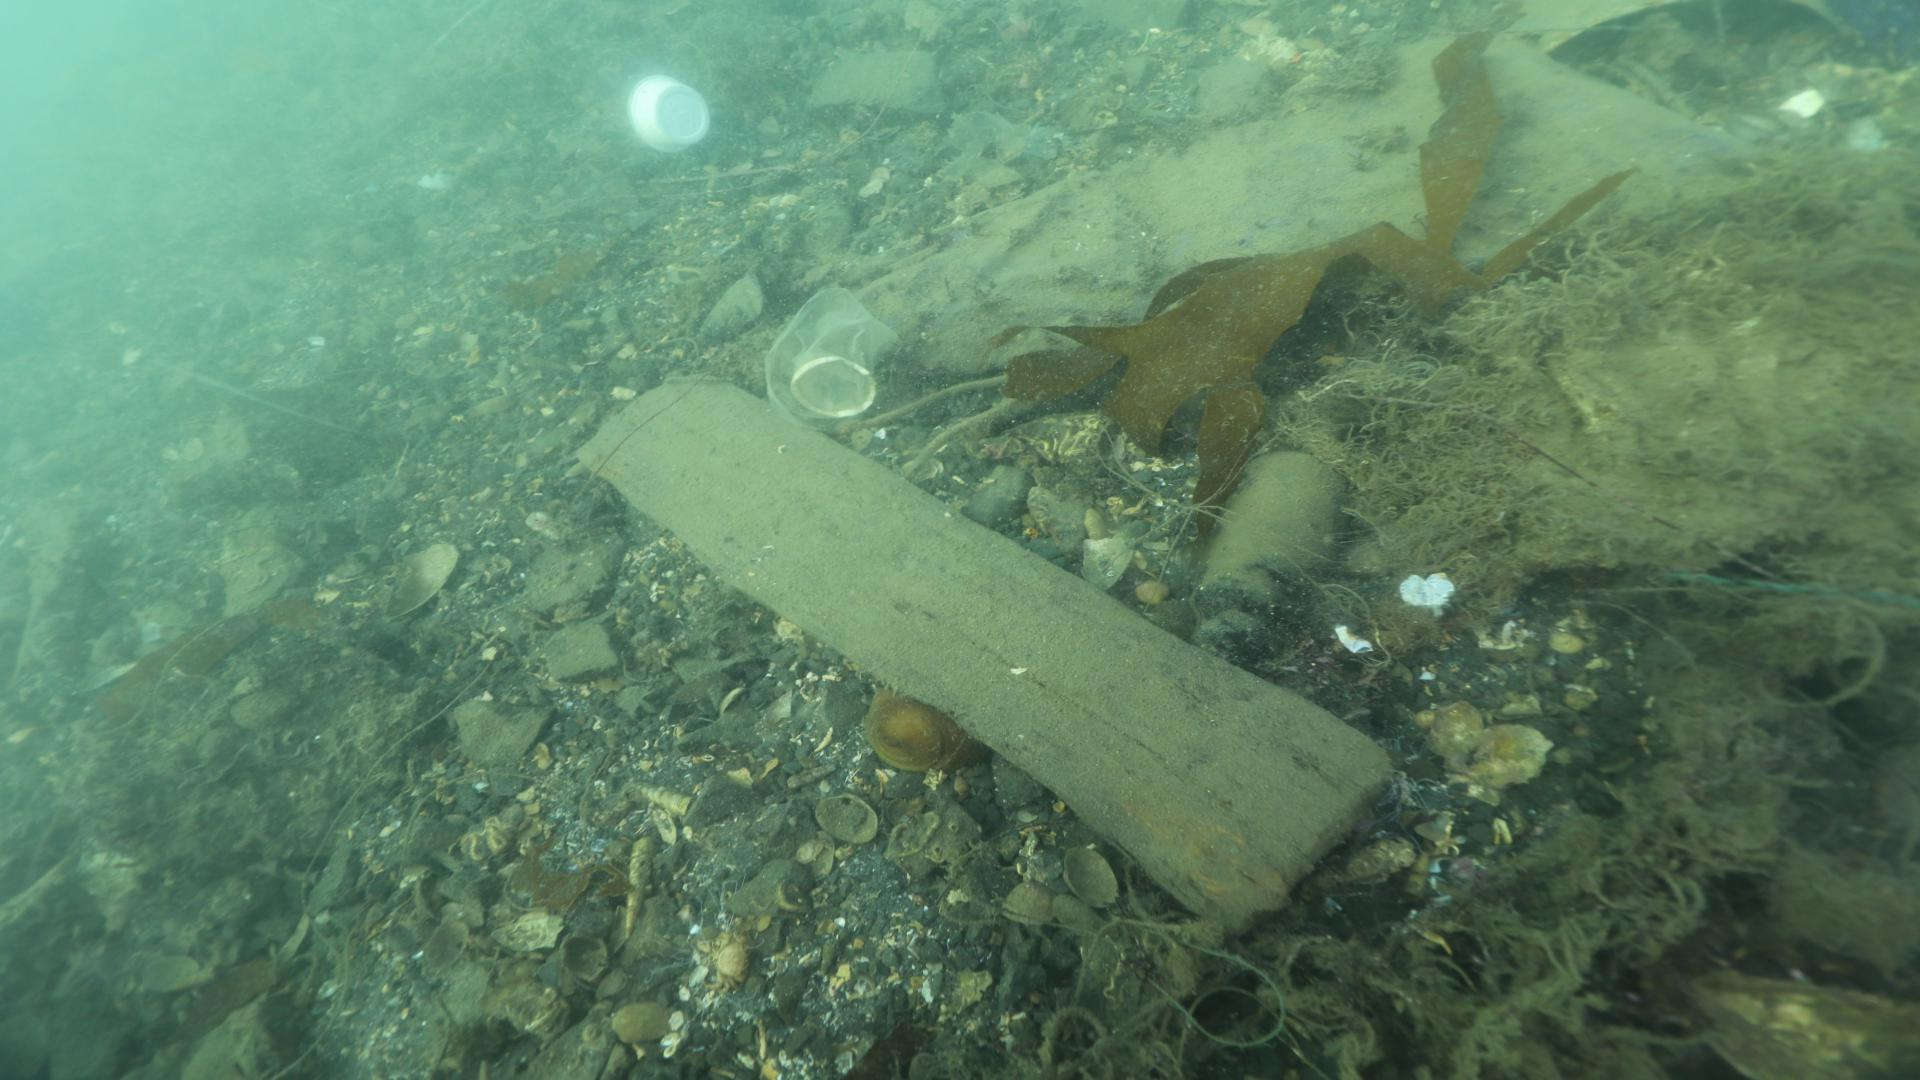wood: (567, 371, 1396, 943)
